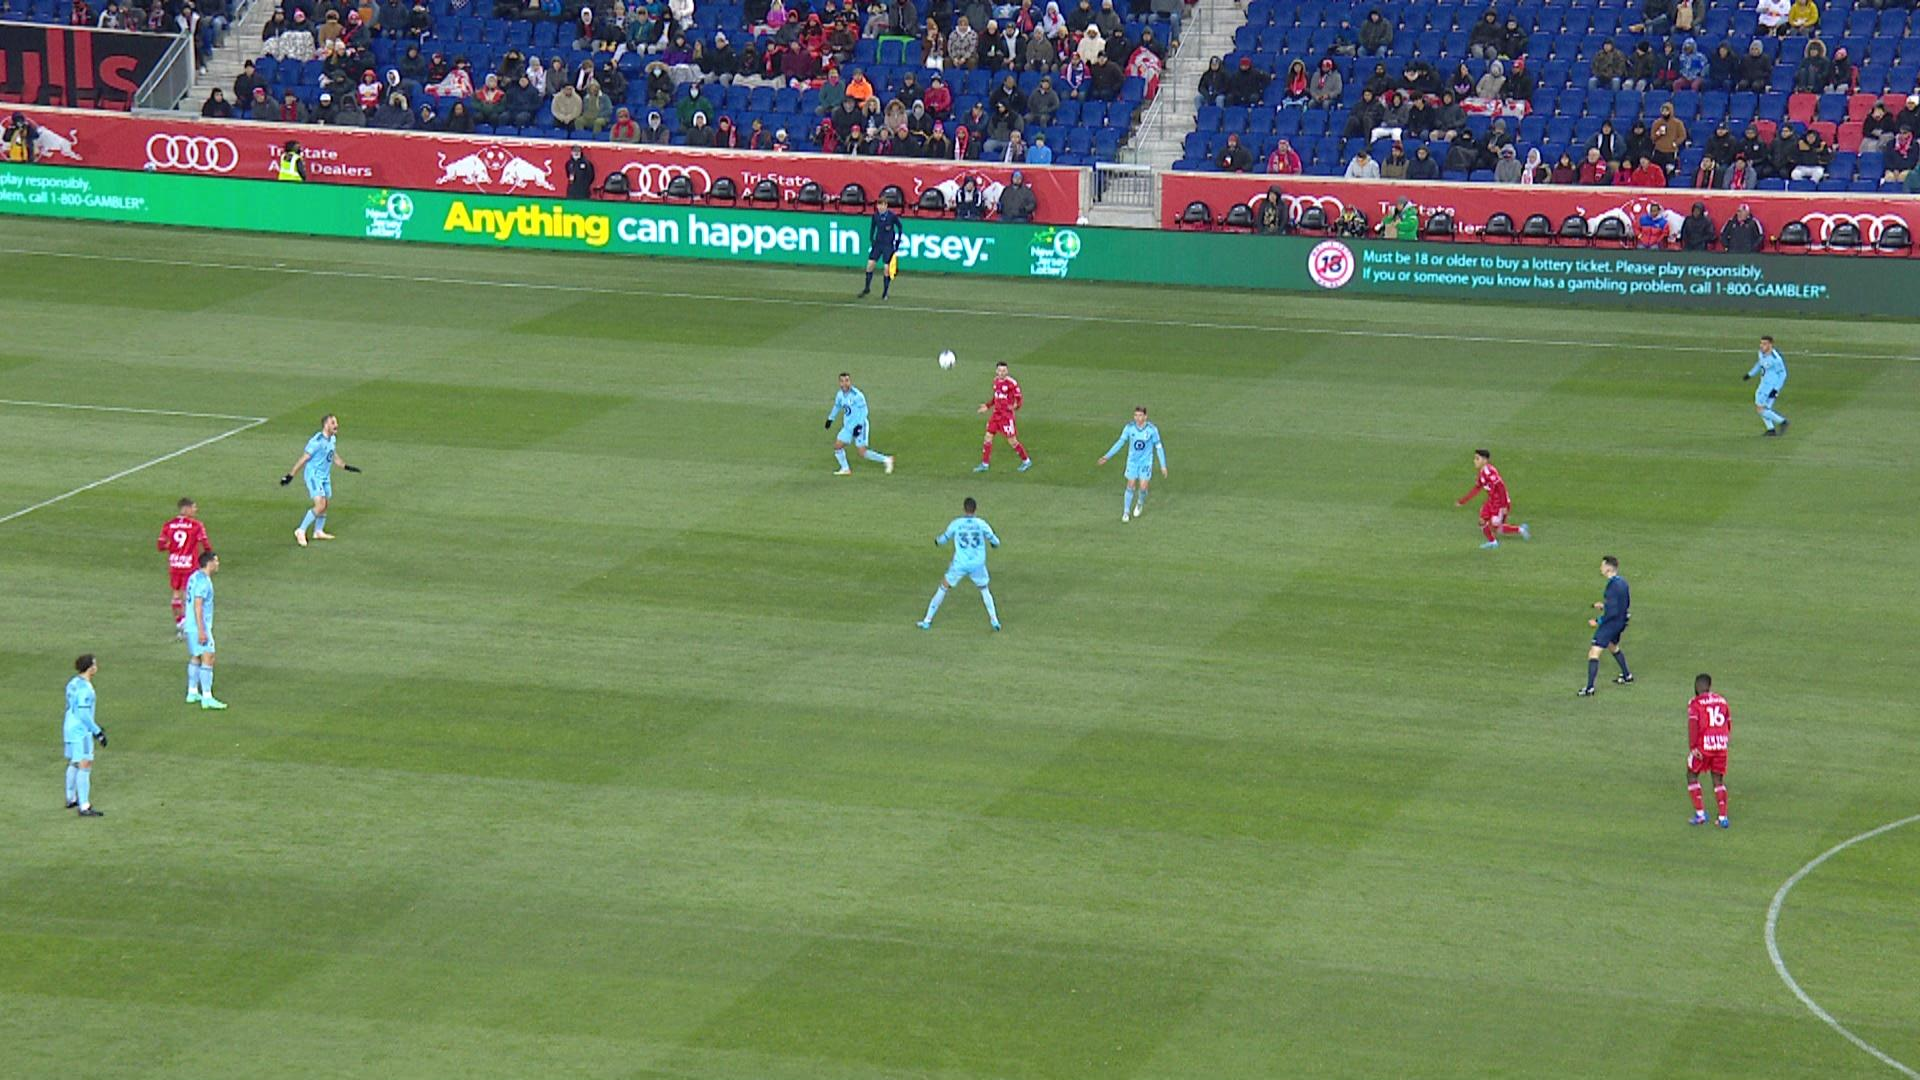football: (938, 348, 957, 371)
